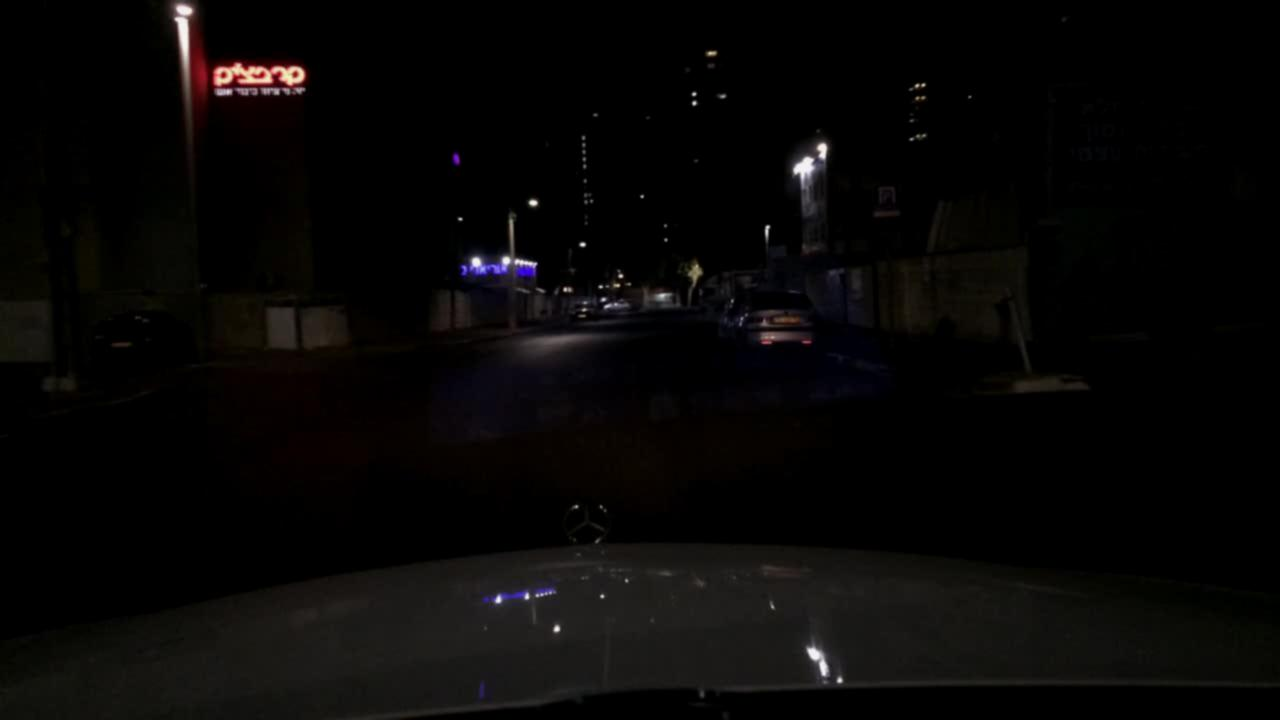Mercedes: (546, 484, 625, 562)
